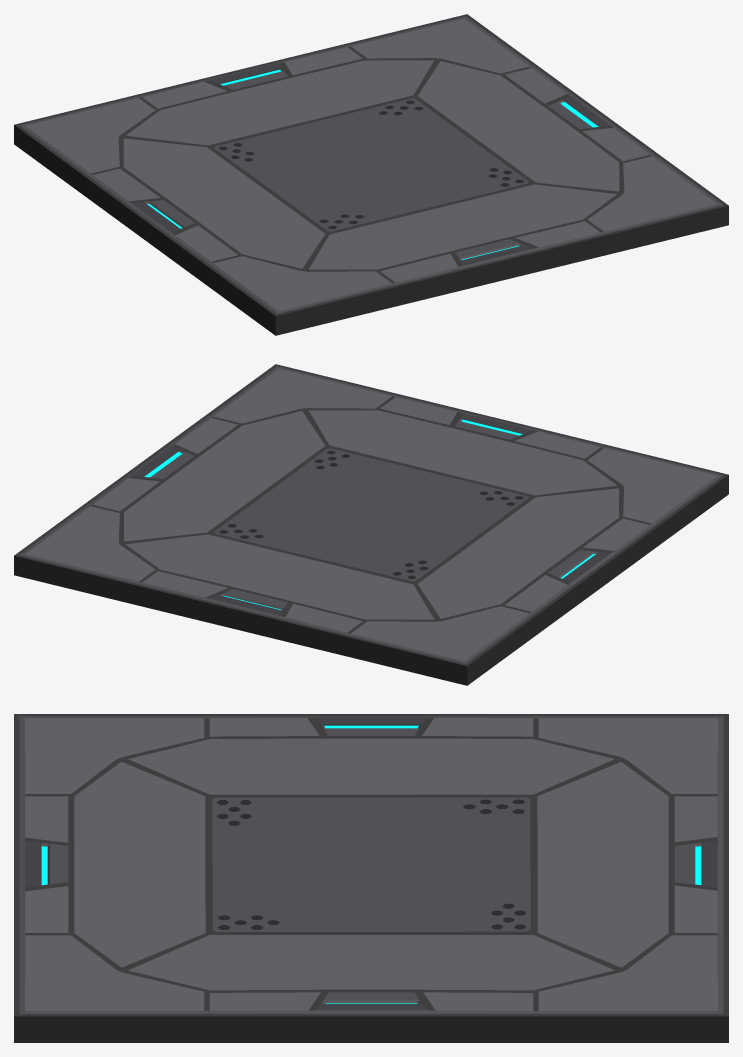
File: SM_Bld_Floor_09.fbx
3 views of the same model, one above another, from view 1: azimuth 30°, elevation 25°; view 2: azimuth 150°, elevation 25°; view 3: azimuth 270°, elevation 25° (orthographic). The views are drawn at different scales.
Visible parts, largest first — view 1: SM_Bld_Floor_09_LOD0; view 2: SM_Bld_Floor_09_LOD0; view 3: SM_Bld_Floor_09_LOD0.
Part boxes in pixels (x1=…): SM_Bld_Floor_09_LOD0: x1=14, y1=14, x2=728, y2=335; SM_Bld_Floor_09_LOD0: x1=14, y1=364, x2=728, y2=685; SM_Bld_Floor_09_LOD0: x1=14, y1=714, x2=728, y2=1042.
Bounding box in the file's own units: 500 × 500 × 21.41.
Materials: 1 (1 with a texture image).
